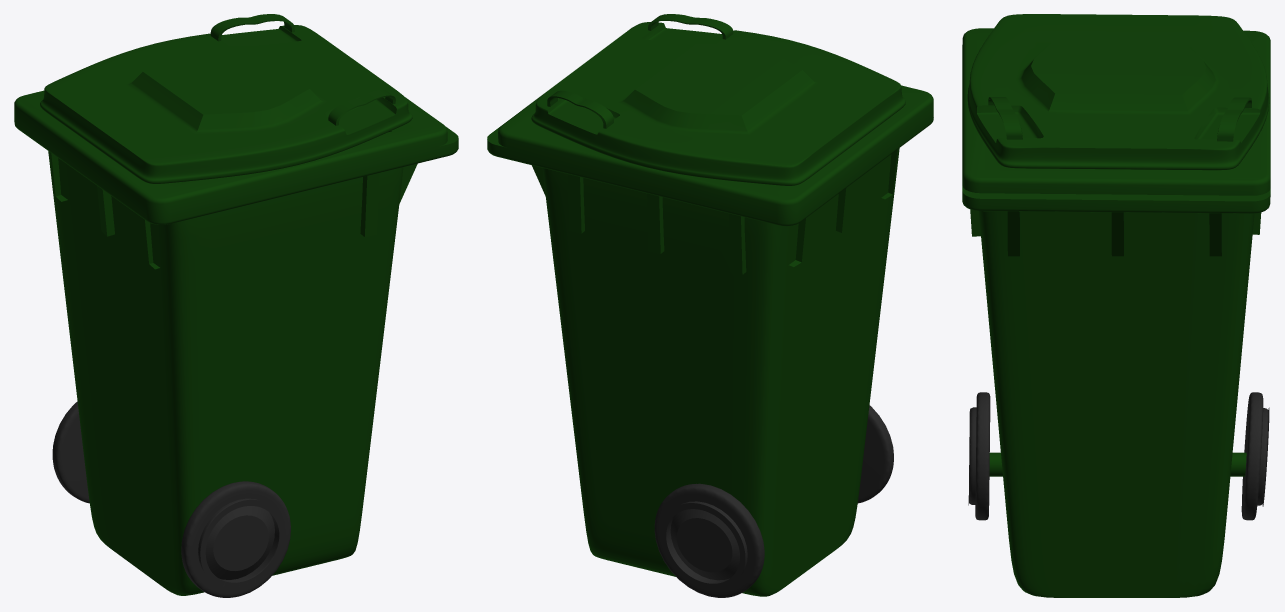
File: trashbin.fbx
3 renders of one model, left to right at view 1: azimuth 30°, elevation 25°; view 2: azimuth 150°, elevation 25°; view 3: azimuth 270°, elevation 25°, orthographic. The views are drawn at different scales.
Visible parts, largest first — view 1: body, door, upper body, wheel2, wheel1; view 2: body, door, upper body, wheel1, wheel2; view 3: body, door, upper body, wheel1, wheel2.
Part boxes in pixels (bbox=[...]): body: bbox=[48, 151, 417, 595]; door: bbox=[40, 14, 412, 183]; upper body: bbox=[14, 90, 458, 224]; wheel2: bbox=[181, 481, 290, 597]; wheel1: bbox=[52, 401, 89, 503]; body: bbox=[532, 148, 899, 596]; door: bbox=[531, 14, 905, 185]; upper body: bbox=[487, 27, 933, 226]; wheel1: bbox=[654, 483, 764, 597]; wheel2: bbox=[857, 405, 893, 503]; body: bbox=[970, 209, 1261, 597]; door: bbox=[967, 14, 1269, 170]; upper body: bbox=[962, 28, 1270, 213]; wheel1: bbox=[1241, 392, 1269, 520]; wheel2: bbox=[968, 392, 990, 520].
Size of the model in its own units: 1067 by 1533 by 879.
